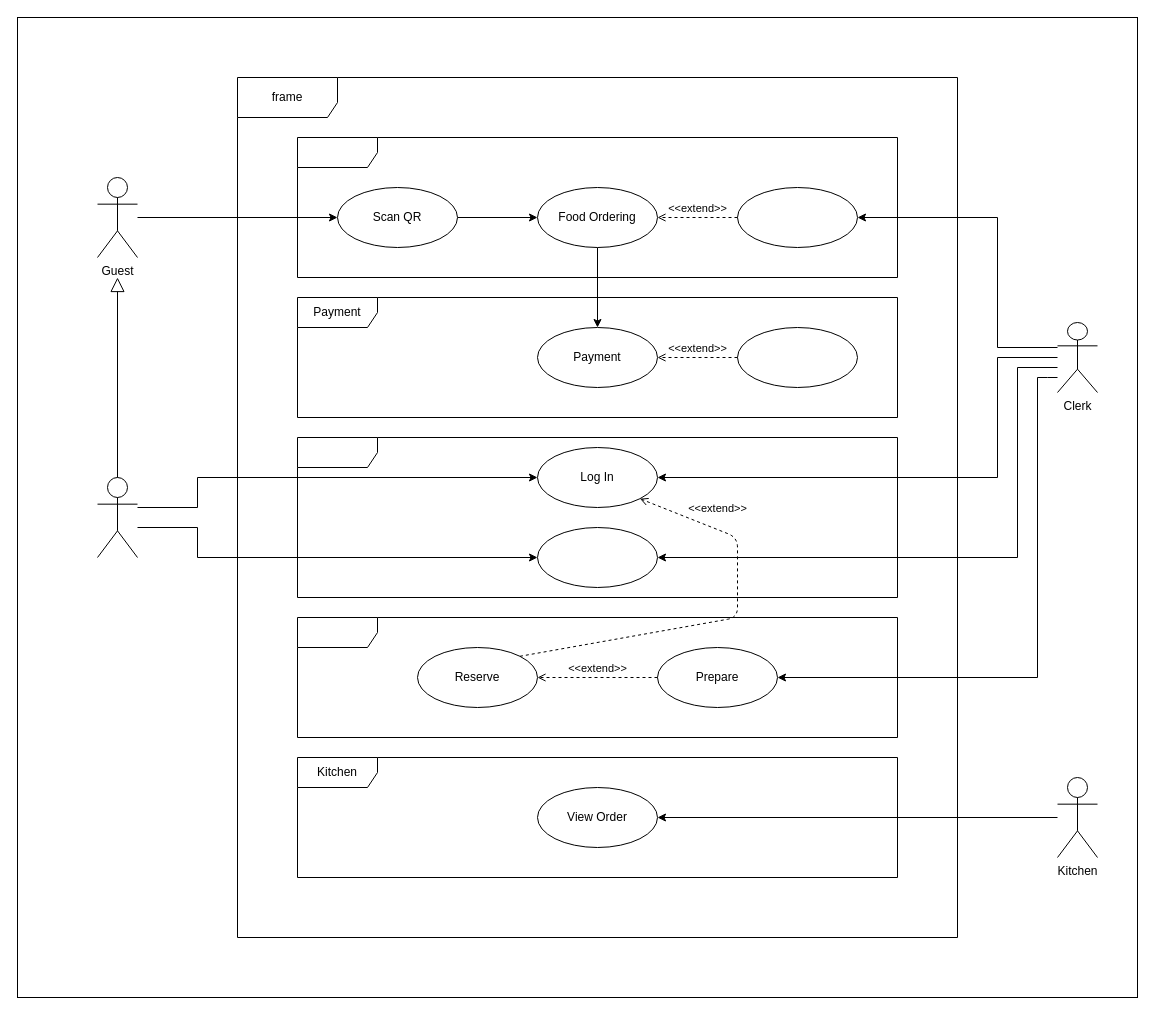
Image size: 1155x1015. Some labels were removed from this diagram. Here are the shapes that lost their labels. From the top down, the box of each, then its label:
(296, 136, 898, 278): Make order
(736, 186, 858, 248): Confirm Order
(736, 326, 858, 388): Feedback
(96, 476, 138, 558): Member
(296, 436, 898, 598): Account
(536, 526, 658, 588): Log Out
(296, 616, 898, 738): Reservation
